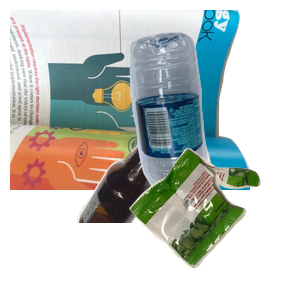glass: (74, 120, 244, 300)
paper: (10, 10, 250, 190)
plastic: (127, 29, 300, 209)
trash: (127, 146, 300, 300)
